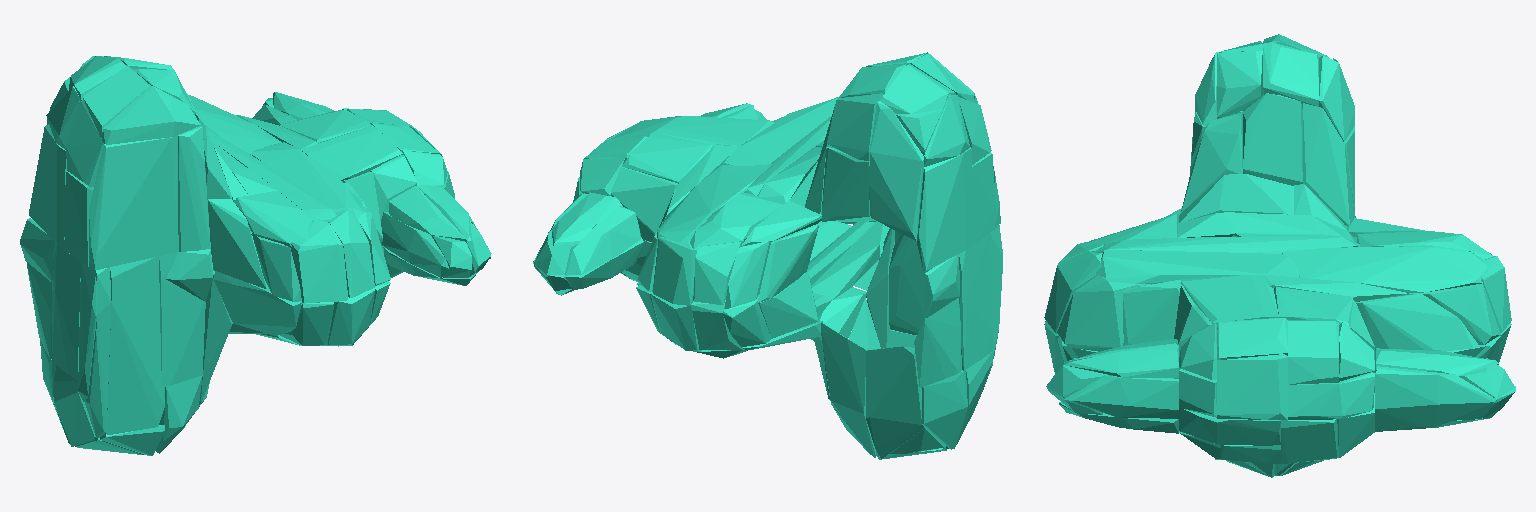
URDF robot description (blob123):
<robot name="blob123">
  <link name="random_obj_123">
    <contact>
      <lateral_friction value="1.0"/>
      <rolling_friction value="0.0"/>
      <inertia_scaling value="3.0"/>
      <contact_cfm value="0.0"/>
      <contact_erp value="1.0"/>
    </contact>
    <inertial>
      <origin rpy="0 0 0" xyz="0 0 0"/>
      <mass value="0.1"/>
      <inertia ixx="1" ixy="0" ixz="0" iyy="1" iyz="0" izz="0"/>
    </inertial>
    <visual>
      <origin rpy="0 0 0" xyz="0 0 0"/>
      <geometry>
        <mesh filename="123.obj" scale="0.015 0.015 0.015"/>
      </geometry>
      <material name="blockmat">
        <color rgba="0.28 0.93 0.80 1"/>
      </material>
    </visual>
    <collision>
      <origin rpy="0 0 0" xyz="0 0 0"/>
      <geometry>
        <mesh filename="123.obj" scale="0.015 0.015 0.015"/>
      </geometry>
    </collision>
  </link>
</robot>

--- Render facts (derived) ---
3 views of the same robot in one strip: view 1: azimuth 30°, elevation 25°; view 2: azimuth 150°, elevation 25°; view 3: azimuth 270°, elevation 25° (orthographic).
Model blob123 with 1 links and 0 joints (none), rooted at random_obj_123, posed every joint at zero.
Visible links, largest first — view 1: random_obj_123; view 2: random_obj_123; view 3: random_obj_123.
Boxes of the visible links, box(x1,y1,x2,y2) form: random_obj_123: box(20, 56, 491, 455); random_obj_123: box(533, 52, 1002, 459); random_obj_123: box(1044, 34, 1515, 477).
Bounding box of the posed robot: 0.0909 × 0.0902 × 0.0902 m (x, y, z).
Meshes: 1 distinct files referenced, 1 mesh visuals loaded (1 OBJ).